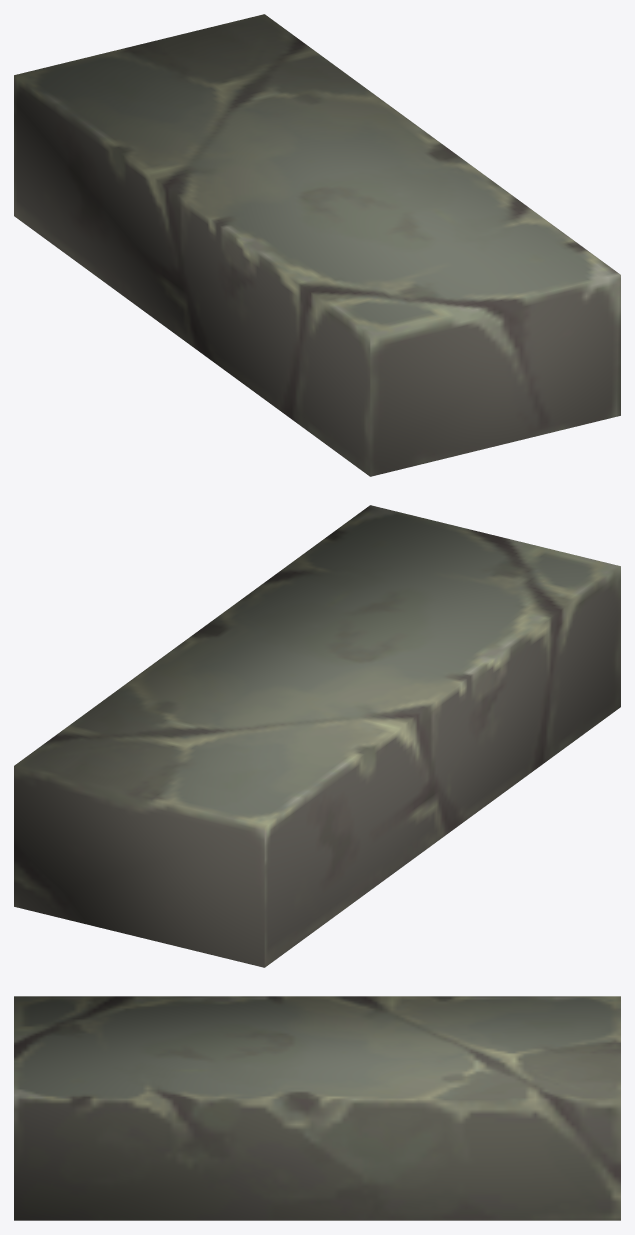
Rendered from yw_shanlin_slabstone_001.FBX.
3 views of the same model, one above another, from view 1: azimuth 30°, elevation 25°; view 2: azimuth 150°, elevation 25°; view 3: azimuth 270°, elevation 25° (orthographic). The views are drawn at different scales.
Parts seen in each view (by area): view 1: yw_shanlin_slabstone_001; view 2: yw_shanlin_slabstone_001; view 3: yw_shanlin_slabstone_001.
Boxes of the visible parts, left/top/right/bottom form: yw_shanlin_slabstone_001: left=14, top=14, right=620, bottom=476; yw_shanlin_slabstone_001: left=14, top=505, right=620, bottom=967; yw_shanlin_slabstone_001: left=14, top=996, right=620, bottom=1220.
Size of the model in its own units: 66.69 by 164 by 35.79.
